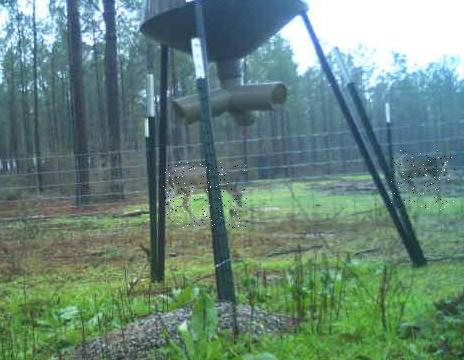Deer: (163, 162, 247, 228), (391, 151, 455, 211)
